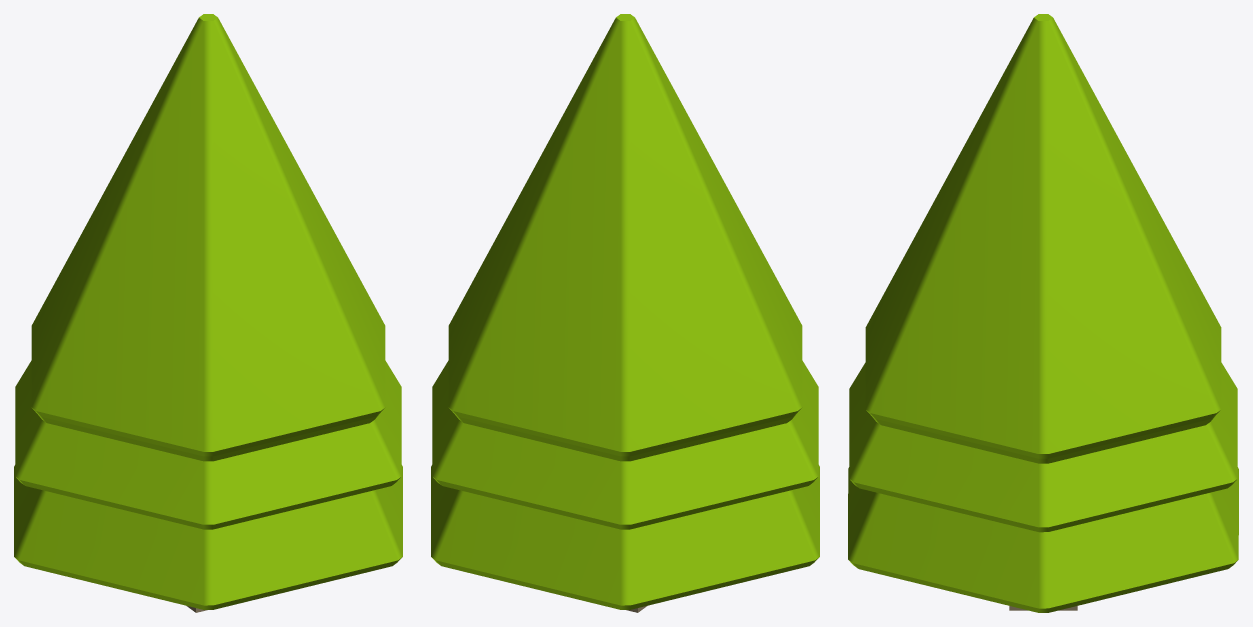
File: pine_5_bevel.fbx
3 views of the same model, side by side, from view 1: azimuth 30°, elevation 25°; view 2: azimuth 150°, elevation 25°; view 3: azimuth 270°, elevation 25° (orthographic).
Visible parts, largest first — view 1: pine_5_bevel; view 2: pine_5_bevel; view 3: pine_5_bevel.
Part boxes in pixels (x1,y1,x2,y2): pine_5_bevel: [14, 14, 402, 612]; pine_5_bevel: [431, 14, 819, 612]; pine_5_bevel: [848, 14, 1238, 612].
Bounding box in the file's own units: 180 × 258 × 158.
